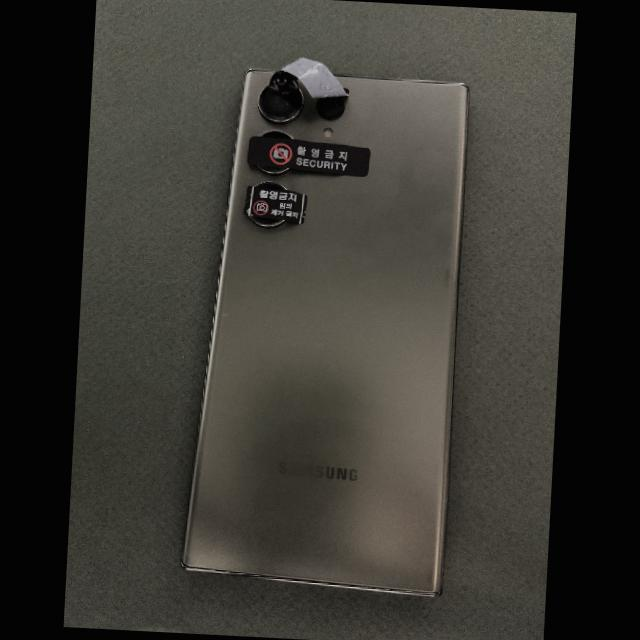lens: (259, 86, 304, 124), (319, 99, 342, 119), (249, 217, 283, 228), (261, 130, 293, 140)
phone: (181, 68, 470, 600)
sticker: (247, 135, 371, 178), (268, 57, 349, 99), (242, 186, 308, 224)
